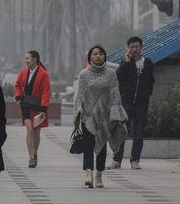person: (73, 43, 124, 190), (106, 36, 156, 170), (14, 50, 52, 169), (1, 83, 8, 173)
